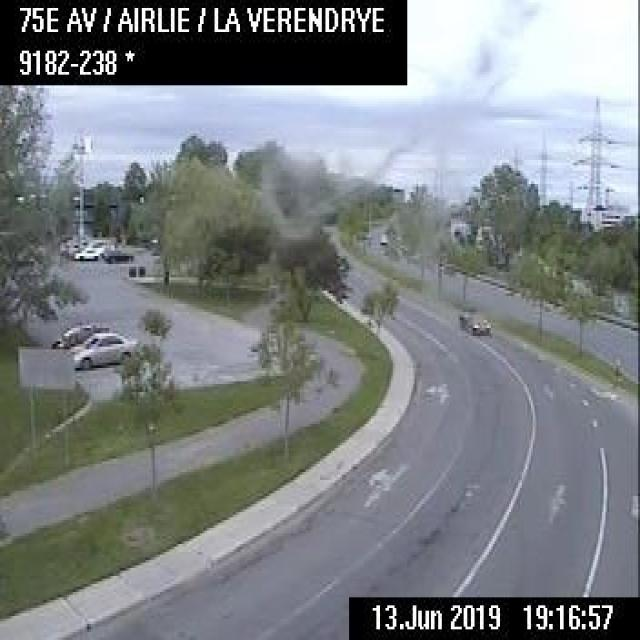vehicle: (71, 328, 137, 367), (50, 320, 107, 346), (456, 306, 492, 334), (103, 245, 131, 262), (73, 244, 98, 259), (377, 234, 388, 244)
